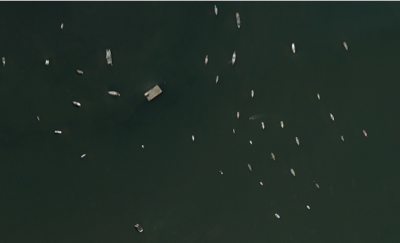boat: (228, 52, 236, 66), (106, 48, 113, 64), (134, 223, 144, 232), (236, 13, 241, 28), (343, 41, 349, 51), (289, 168, 296, 176), (108, 91, 119, 96), (362, 129, 368, 138), (270, 152, 276, 161), (204, 55, 209, 65), (45, 58, 51, 66), (295, 137, 300, 146), (279, 120, 284, 129), (214, 75, 219, 84), (73, 101, 82, 106), (292, 43, 296, 54), (246, 164, 252, 171), (260, 121, 265, 129), (76, 69, 84, 74), (2, 57, 6, 67), (214, 6, 218, 15), (54, 130, 63, 134), (329, 114, 334, 121), (61, 22, 66, 29), (236, 111, 240, 119), (81, 153, 87, 158), (315, 183, 320, 189), (316, 93, 320, 100), (251, 90, 254, 99), (275, 213, 280, 218), (37, 115, 41, 121), (191, 135, 195, 141), (141, 144, 145, 149), (249, 140, 253, 144), (219, 170, 223, 174), (341, 136, 344, 141), (233, 128, 235, 134), (307, 205, 310, 209), (260, 181, 263, 185), (214, 5, 217, 7), (236, 12, 239, 14), (119, 93, 121, 96), (111, 63, 113, 66), (313, 180, 315, 182), (342, 135, 343, 137), (249, 118, 251, 119), (234, 51, 236, 52), (330, 113, 331, 114)
